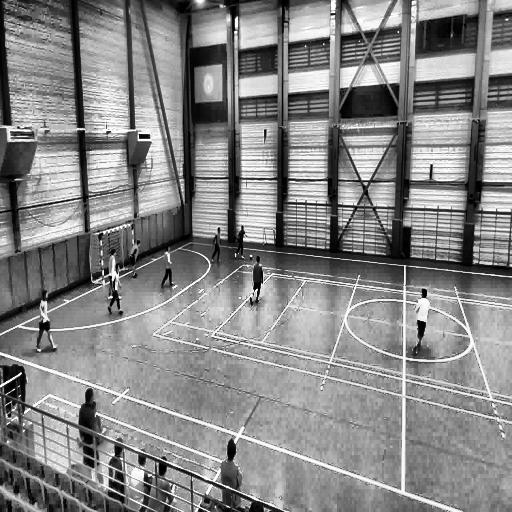ball: (248, 251, 254, 262)
player: (36, 289, 59, 352), (412, 287, 429, 355), (106, 247, 122, 301), (108, 263, 124, 315), (251, 255, 264, 303), (161, 246, 174, 288), (210, 227, 222, 264), (130, 240, 140, 278), (234, 226, 244, 258)
